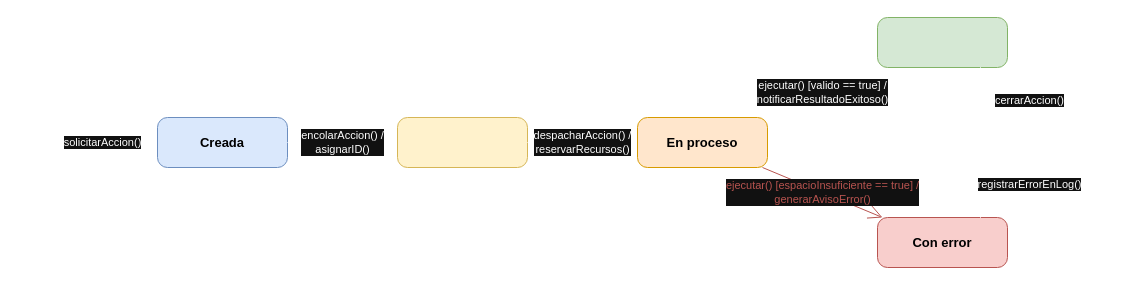
Image size: 1125x285. Some labels were removed from this diagram. The centre of each missing label's shape, as x and y in pixels:
"En espera" goes at [462,142].
"Finalizada" goes at [942,42].
